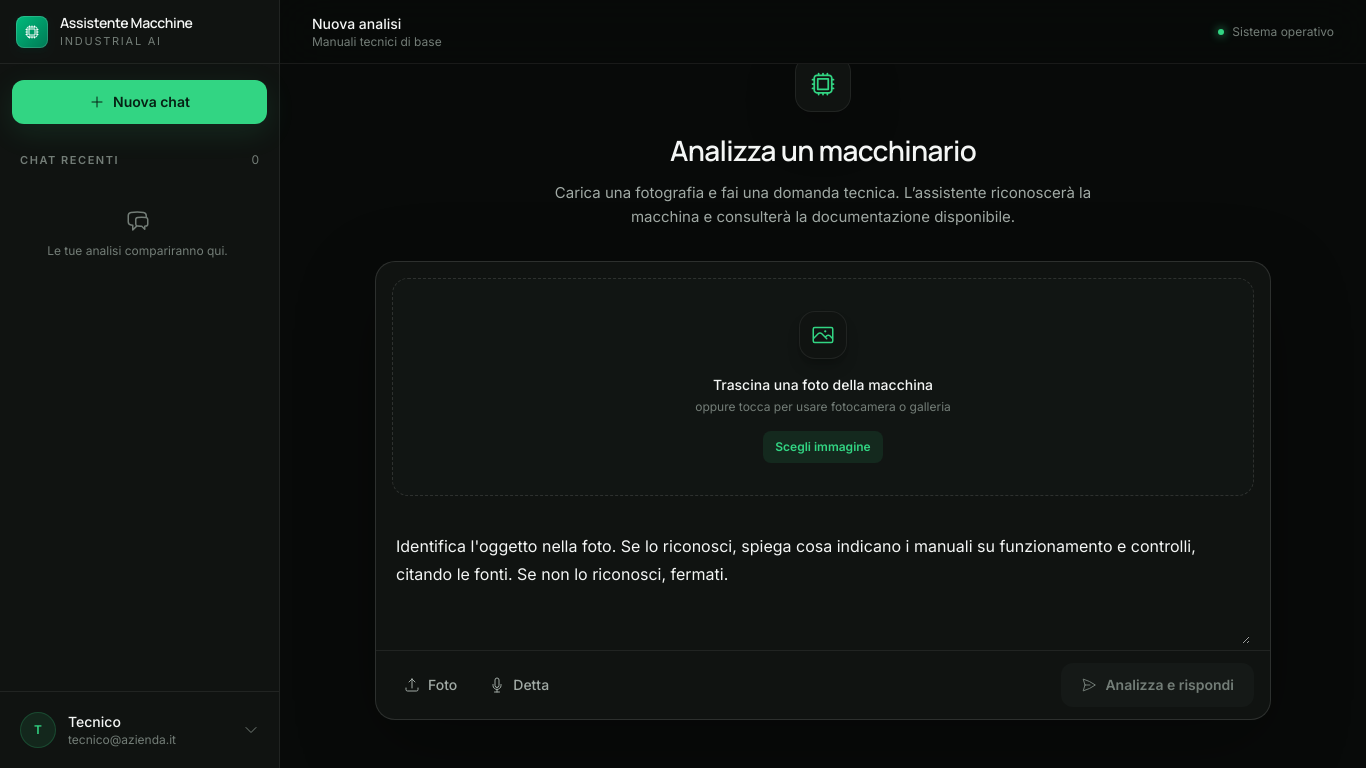
Test: dettatura della domanda › mostra l'errore del backend e lascia invariata la domanda
The width and height of the screenshot is (1366, 768).
(page scrolled)
What coordinates should you click on to do the following:
click the button with aria-label "Detta la domanda"
I would click on:
 (519, 685)
Its box is [477,663,561,707].
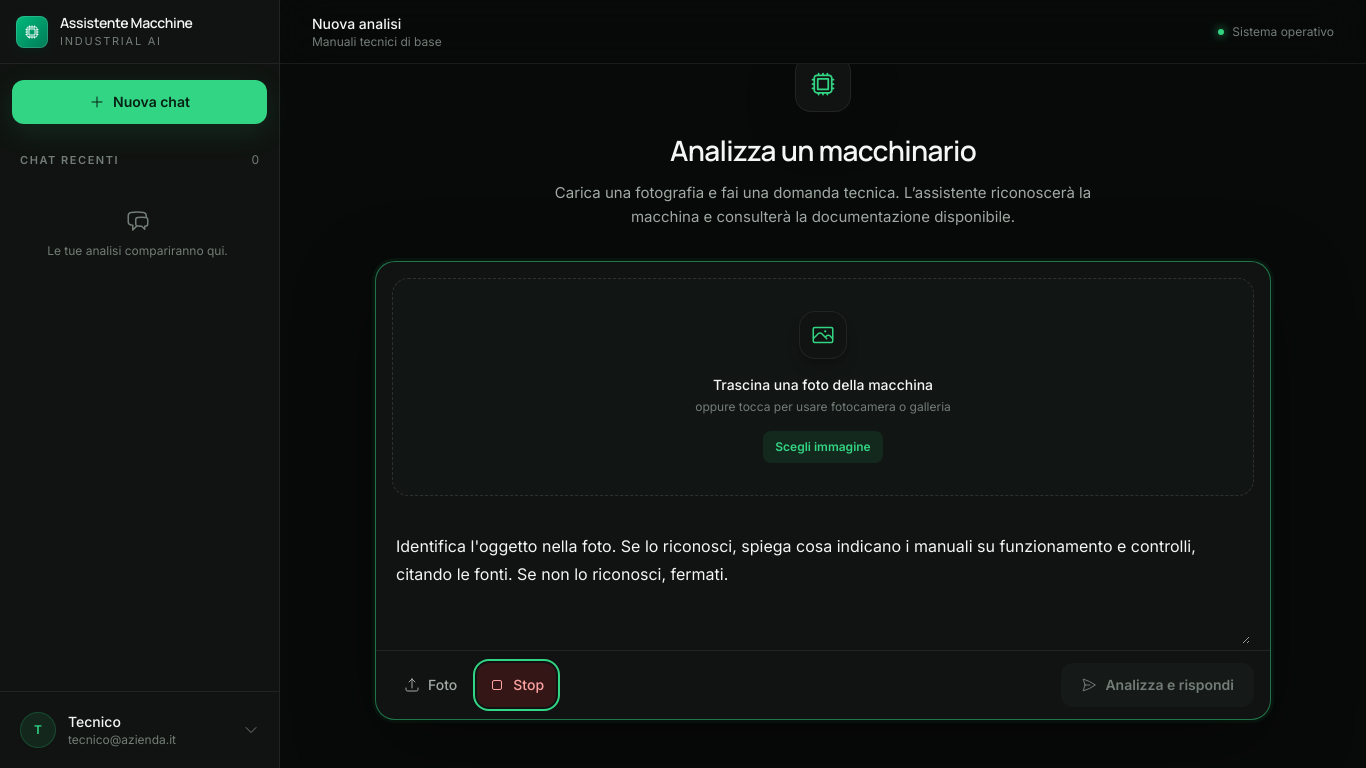
What coordinates should you click on to do the following:
click the button with aria-label "Interrompi dettatura"
I would click on:
 (517, 685)
Its box is [477,663,556,707].
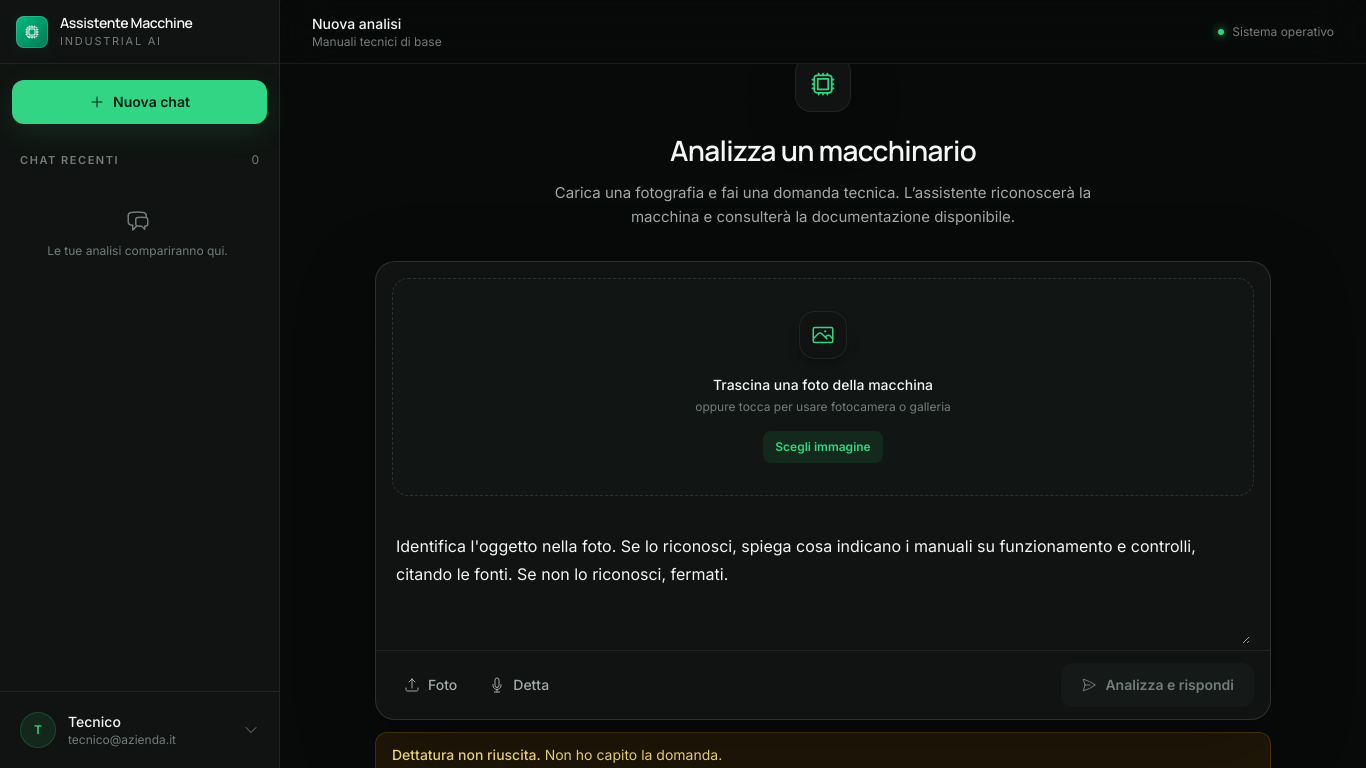
Check: the text box named "Domanda tecnica" holds "Identifica l'oggetto nella foto. Se lo riconosci, spiega cosa indicano i manuali su funzionamento e controlli, citando le fonti. Se non lo riconosci, fermati.", box [396,516,1250,644]
Check: the text "Non ho capito la domanda." is shown, box [545,746,722,763]
